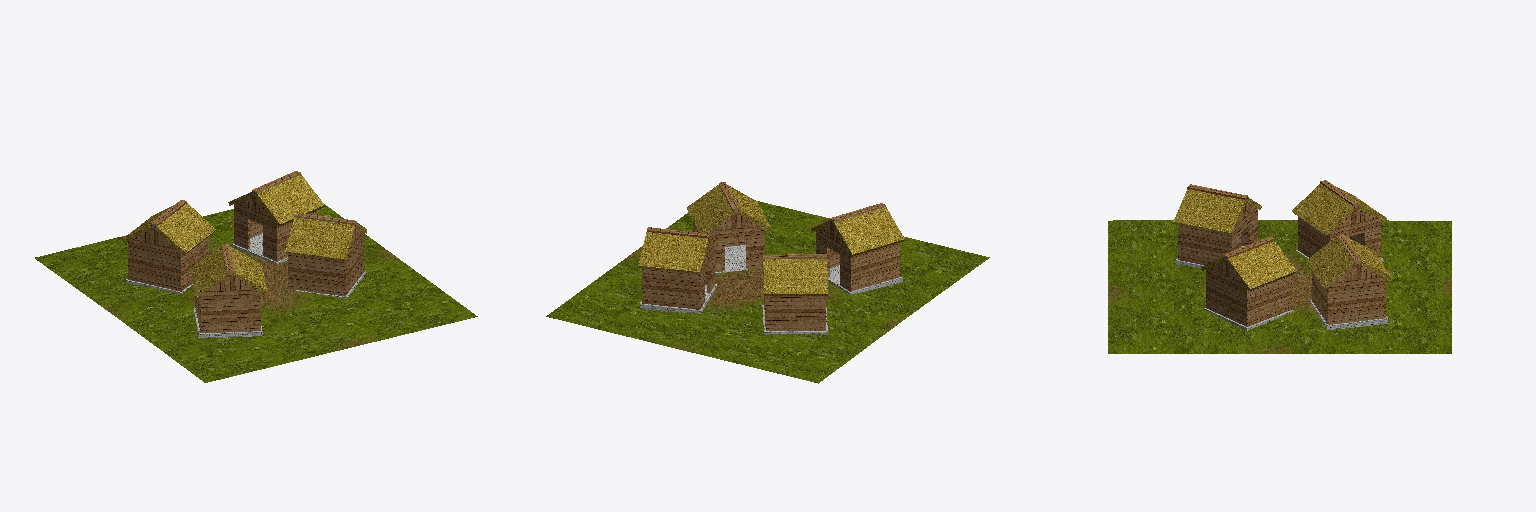
3 renders of one model, left to right at view 1: azimuth 30°, elevation 25°; view 2: azimuth 150°, elevation 25°; view 3: azimuth 270°, elevation 25°, orthographic.
Visible parts, largest first — view 1: polySurface2; view 2: polySurface2; view 3: polySurface2.
Boxes of the visible parts, <box> form: polySurface2: <box>35,171,477,382</box>; polySurface2: <box>546,182,989,383</box>; polySurface2: <box>1108,180,1451,353</box>.
Bounding box in the file's own units: 13.31 × 3.35 × 14.5.
Materials: 18 (4 with a texture image).